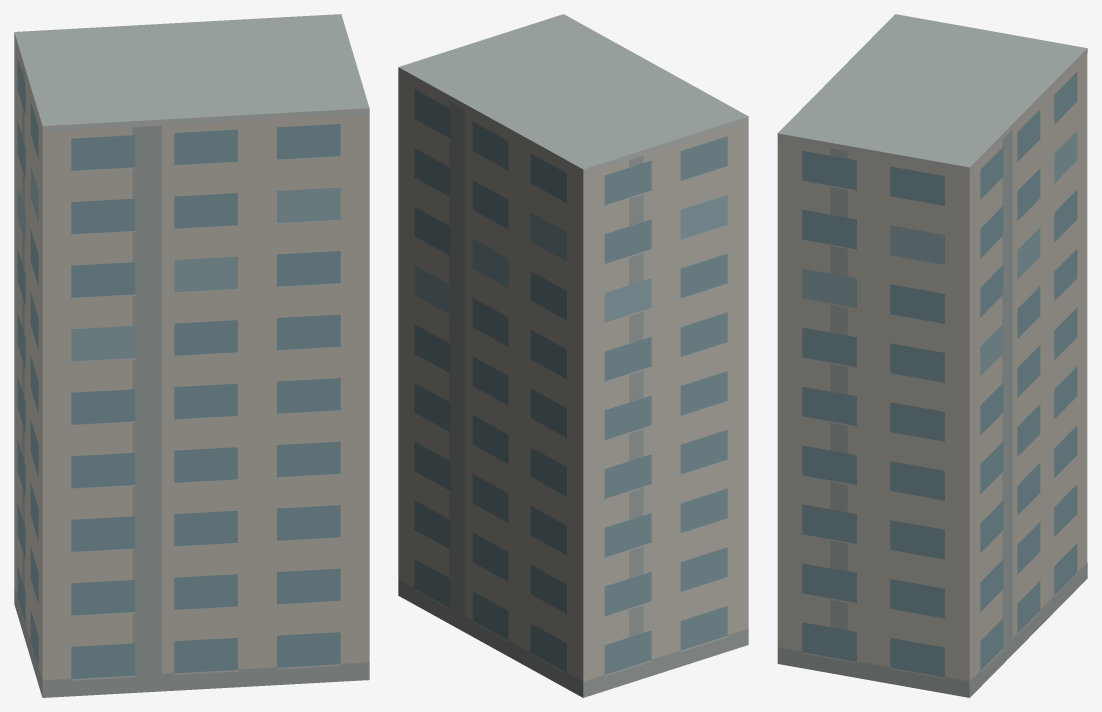
File: survey-upis-32486093.glb
The picture shows the model from 3 angles, left to right: view 1: azimuth 30°, elevation 25°; view 2: azimuth 150°, elevation 25°; view 3: azimuth 270°, elevation 25°; orthographic projection. The views are drawn at different scales.
Parts seen in each view (by area): view 1: survey-upis-32486093.tmp; view 2: survey-upis-32486093.tmp; view 3: survey-upis-32486093.tmp.
Part boxes in pixels (<box>): survey-upis-32486093.tmp: <box>14,14,369,697</box>; survey-upis-32486093.tmp: <box>398,14,748,697</box>; survey-upis-32486093.tmp: <box>777,14,1087,697</box>.
Size of the model in its own units: 14.62 by 23.55 by 12.48.
